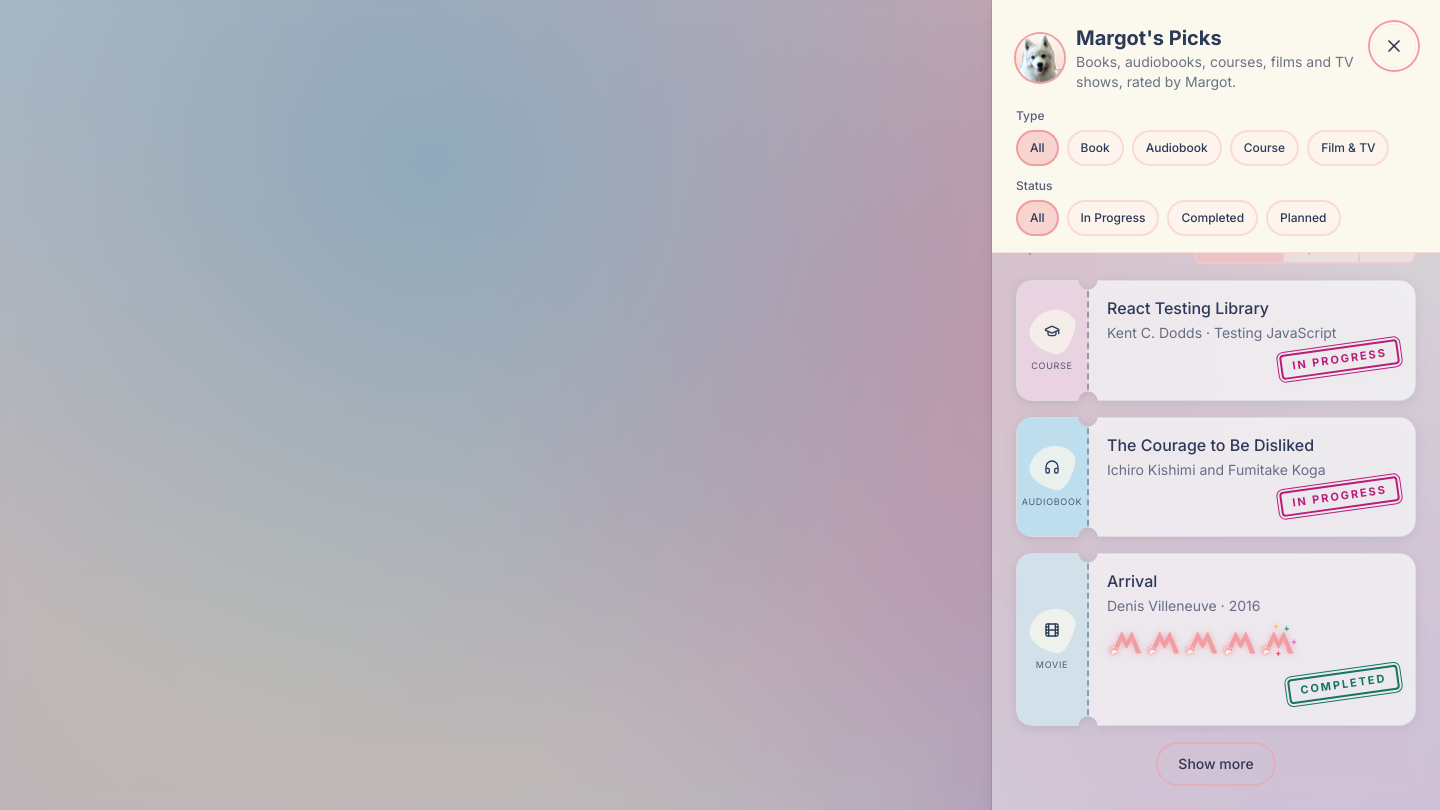
MargotsPicks › lists the first page, recent first, with ratings and notes
This screenshot has width=1440, height=810.
(page scrolled)
Click the button "Show more" at (1216, 764), box x1=1156 y1=742 x2=1276 y2=786
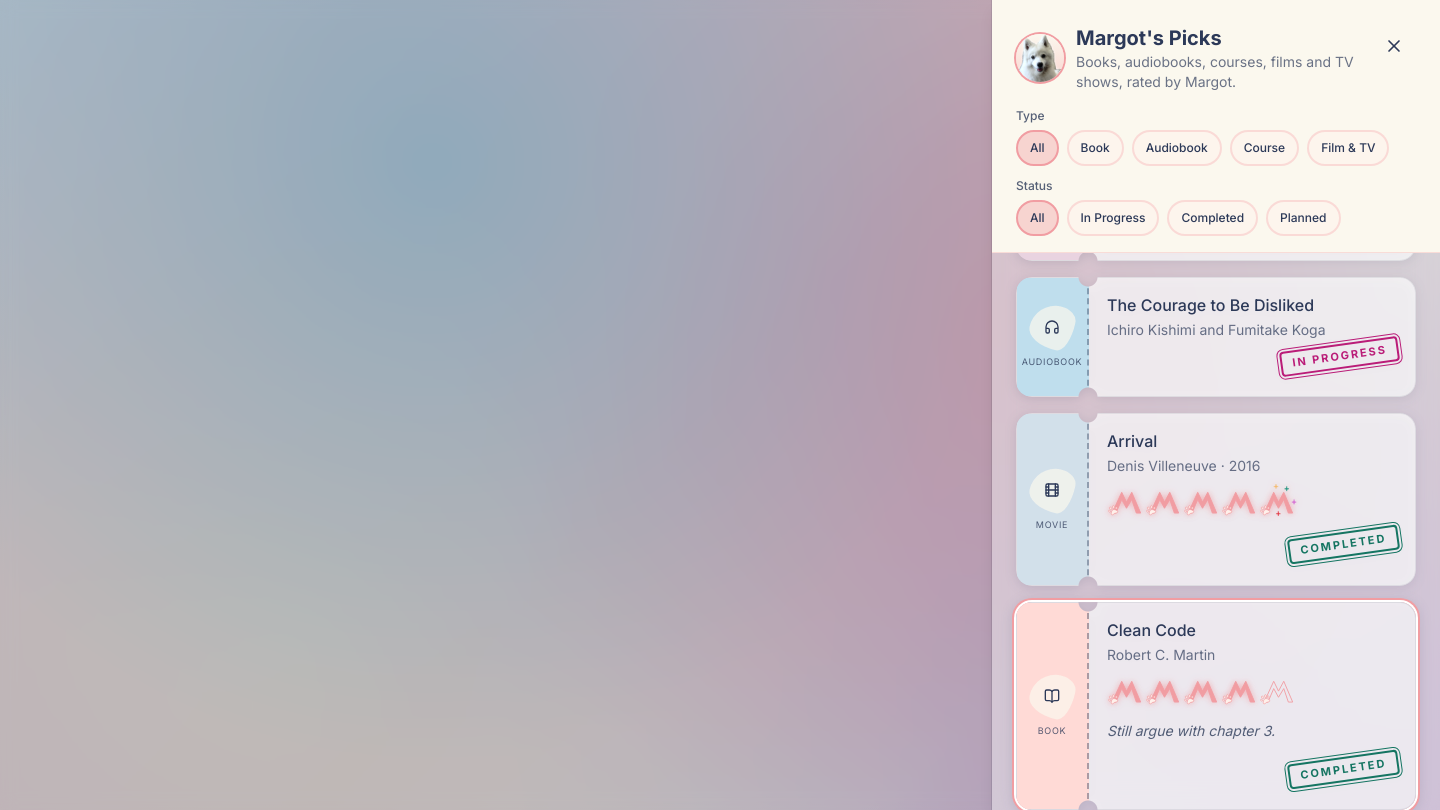
Check: the text "Still argue with chapter 3." is shown, box x1=1107 y1=722 x2=1275 y2=738
